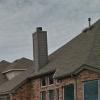Chimney: (25, 17, 52, 73)
